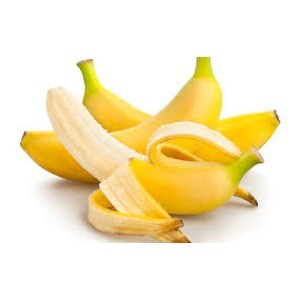banana_brain food: (69, 114, 233, 219)
